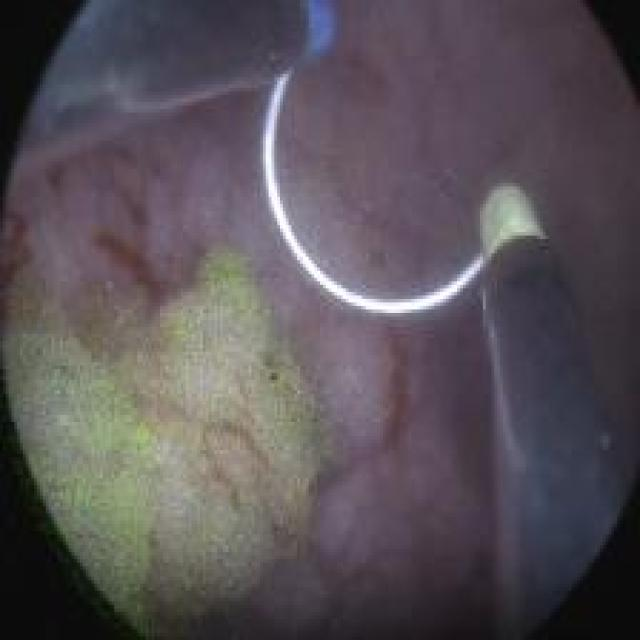color misalignment: (269, 371, 279, 384)
instrument: (474, 187, 632, 638), (256, 66, 488, 314), (12, 3, 333, 142)
